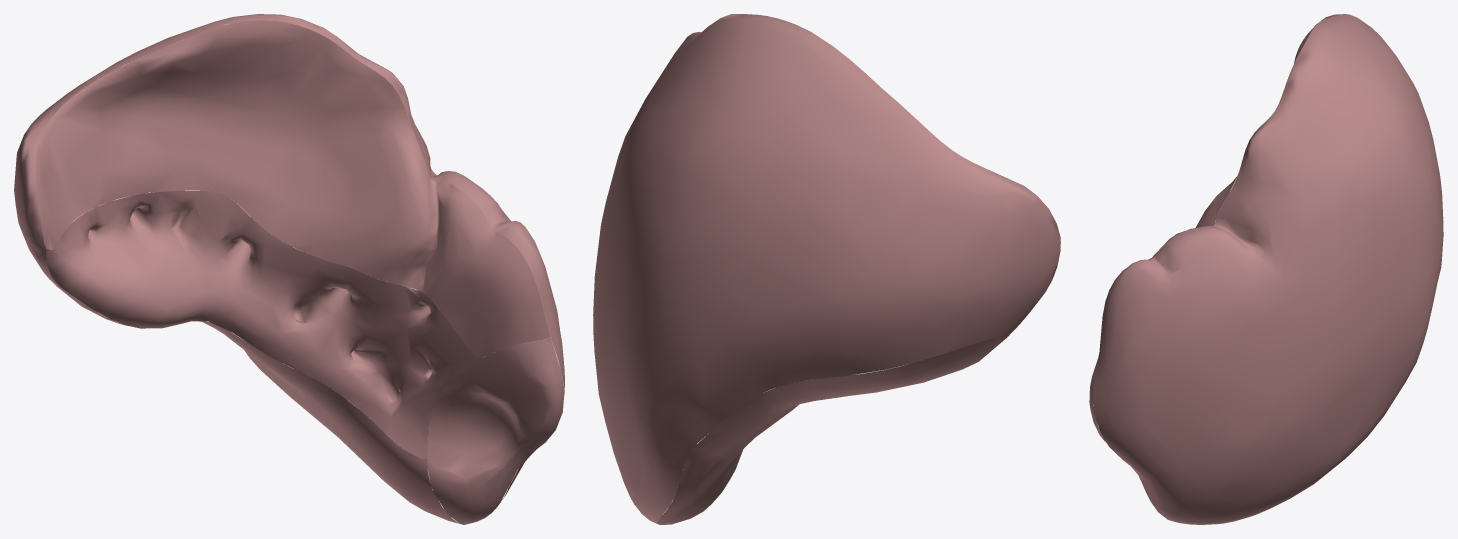
The model's file is vh_m_spleen.glb.
The picture shows the model from 3 angles, left to right: view 1: azimuth 30°, elevation 25°; view 2: azimuth 150°, elevation 25°; view 3: azimuth 270°, elevation 25°; orthographic projection. The views are drawn at different scales.
Visible parts, largest first — view 1: VH_M_gastric_surface_of_spleen, VH_M_hilum_of_spleen, VH_M_colic_surface_of_spleen, VH_M_diaphragmatic_surface_of_spleen, VH_M_renal_surface_of_spleen; view 2: VH_M_diaphragmatic_surface_of_spleen, VH_M_renal_surface_of_spleen; view 3: VH_M_diaphragmatic_surface_of_spleen, VH_M_gastric_surface_of_spleen.
Boxes of the visible parts, x1,y1,x2,y2 form: VH_M_gastric_surface_of_spleen: [35, 20, 549, 359]; VH_M_hilum_of_spleen: [46, 190, 477, 458]; VH_M_colic_surface_of_spleen: [427, 337, 564, 524]; VH_M_diaphragmatic_surface_of_spleen: [14, 14, 564, 508]; VH_M_renal_surface_of_spleen: [51, 281, 459, 523]; VH_M_diaphragmatic_surface_of_spleen: [593, 14, 1060, 524]; VH_M_renal_surface_of_spleen: [657, 337, 1007, 524]; VH_M_diaphragmatic_surface_of_spleen: [1093, 14, 1443, 524]; VH_M_gastric_surface_of_spleen: [1149, 28, 1313, 259].
Size of the model in its own units: 0.1105 by 0.1186 by 0.0886.
